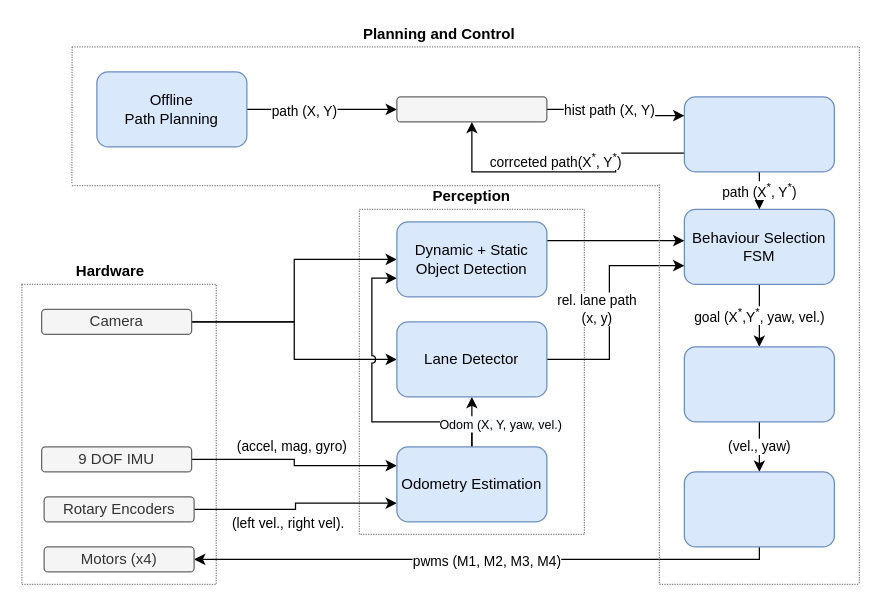
This 883x608 diagram has some shape labels left out. Here are the shapes that lost their labels. From the top down, the centre of each, then its label:
At [471,109]: "Historical Database".
At [758,134]: "Online Path Correction".
At [758,384]: "Motion Planning".
At [758,509]: "Movement Controller".
